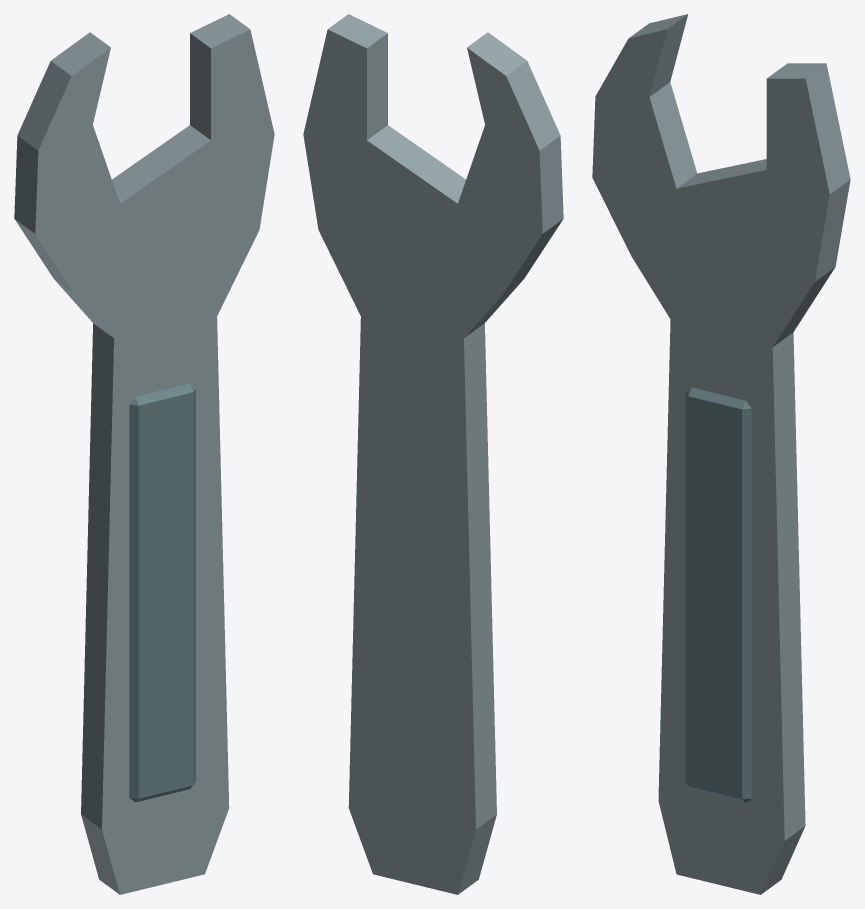
The model's file is Tools-Wrench.fbx.
The picture shows the model from 3 angles, left to right: view 1: azimuth 30°, elevation 25°; view 2: azimuth 150°, elevation 25°; view 3: azimuth 330°, elevation 25°; orthographic projection.
Visible parts, largest first — view 1: Open End Wrench, Grip Inset; view 2: Open End Wrench; view 3: Open End Wrench, Grip Inset.
Part boxes in pixels (x1=…): Open End Wrench: x1=14, y1=14, x2=274, y2=894; Grip Inset: x1=129, y1=383, x2=195, y2=802; Open End Wrench: x1=303, y1=14, x2=563, y2=894; Open End Wrench: x1=592, y1=14, x2=850, y2=894; Grip Inset: x1=685, y1=387, x2=751, y2=802.
Size of the model in its own units: 0.079 by 0.268 by 0.014.
